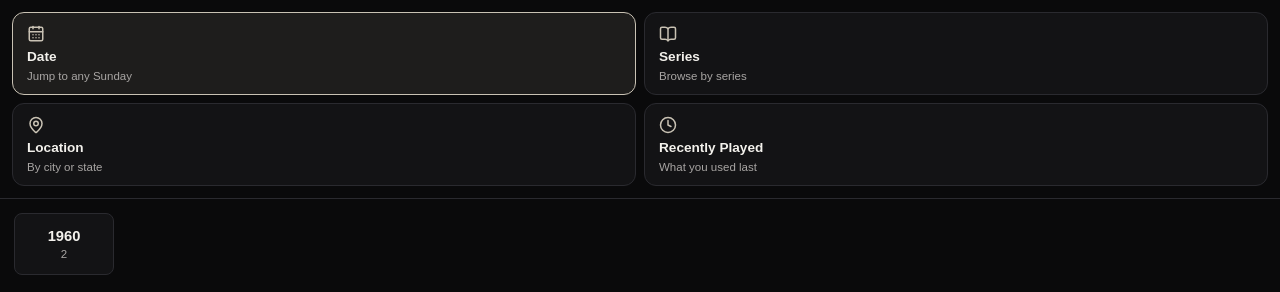
Scenario: BrowsePanel › Recently Played tab shows an empty hint with nothing recent
What coordinates should you click on to do the following:
click the button "Recently Played What you used last"
I would click on:
 (711, 148)
Its box is [644,103,1268,186].
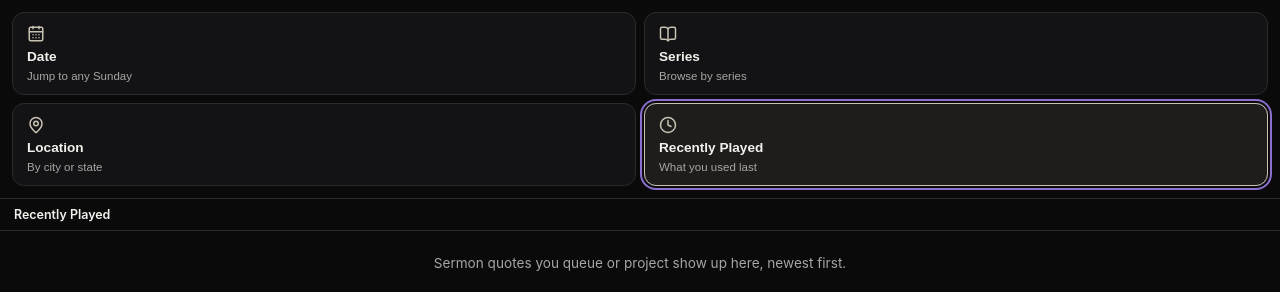
Expected: the text "show up here" is shown, [434,255,846,271]
